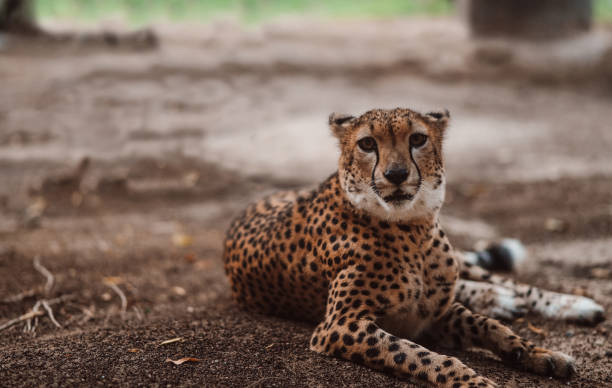cheetah: (321, 101, 464, 233)
